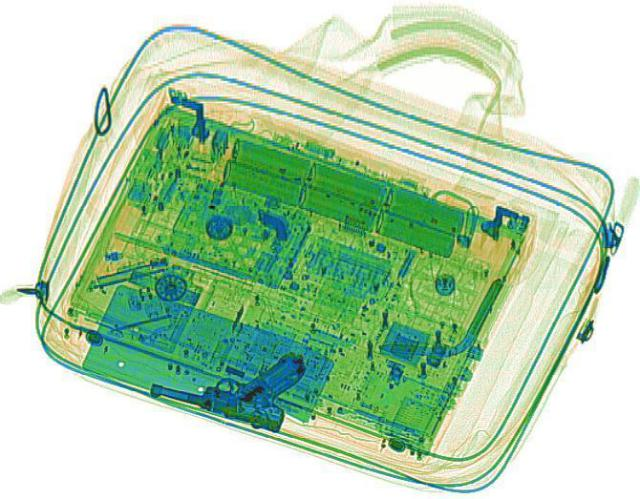Gun: (142, 326, 312, 431)
